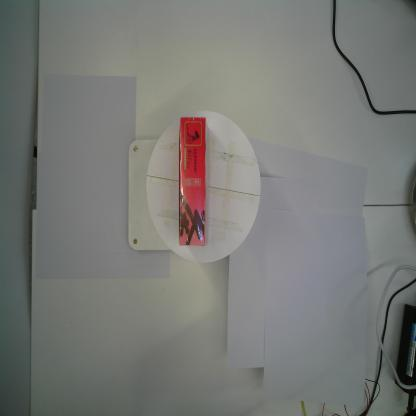Instant Drink: (178, 116, 210, 248)
